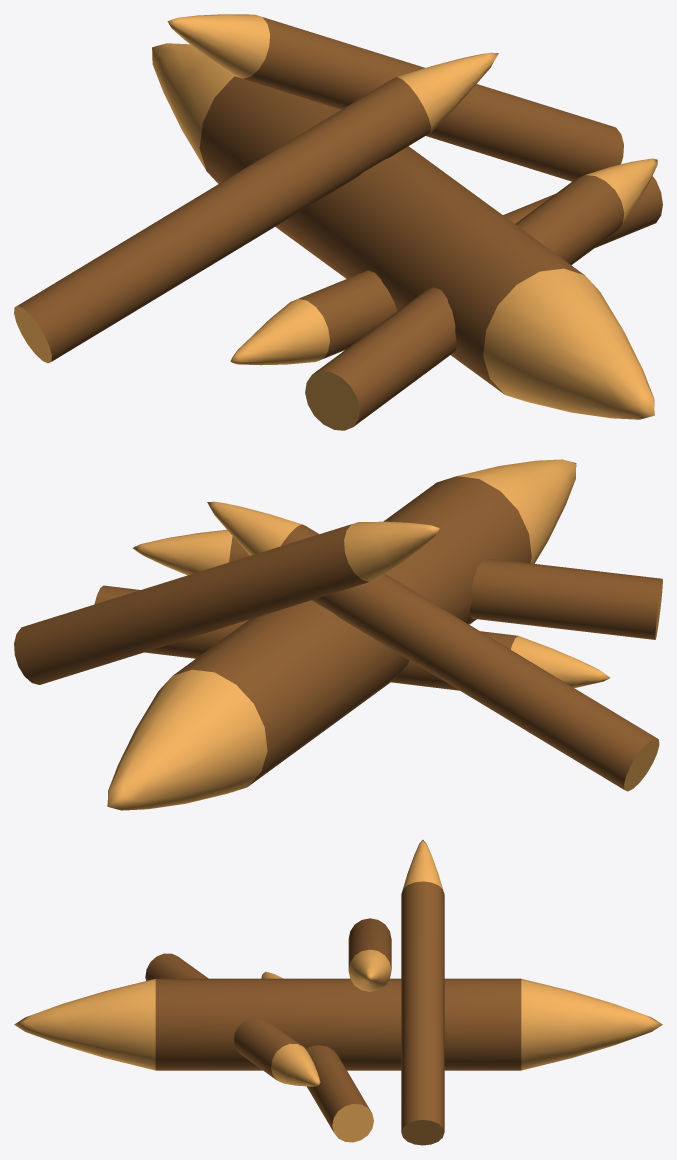
Rendered from juma_pohuai.FBX.
The picture shows the model from 3 angles, top to bottom: view 1: azimuth 30°, elevation 25°; view 2: azimuth 150°, elevation 25°; view 3: azimuth 270°, elevation 25°; orthographic projection. The views are drawn at different scales.
Visible parts, largest first — view 1: 拒马_被破坏; view 2: 拒马_被破坏; view 3: 拒马_被破坏.
Part boxes in pixels (x1,y1,x2,y2): 拒马_被破坏: [14, 14, 662, 430]; 拒马_被破坏: [14, 459, 662, 810]; 拒马_被破坏: [14, 840, 662, 1145].
Size of the model in its own units: 201 by 81.96 by 277.
